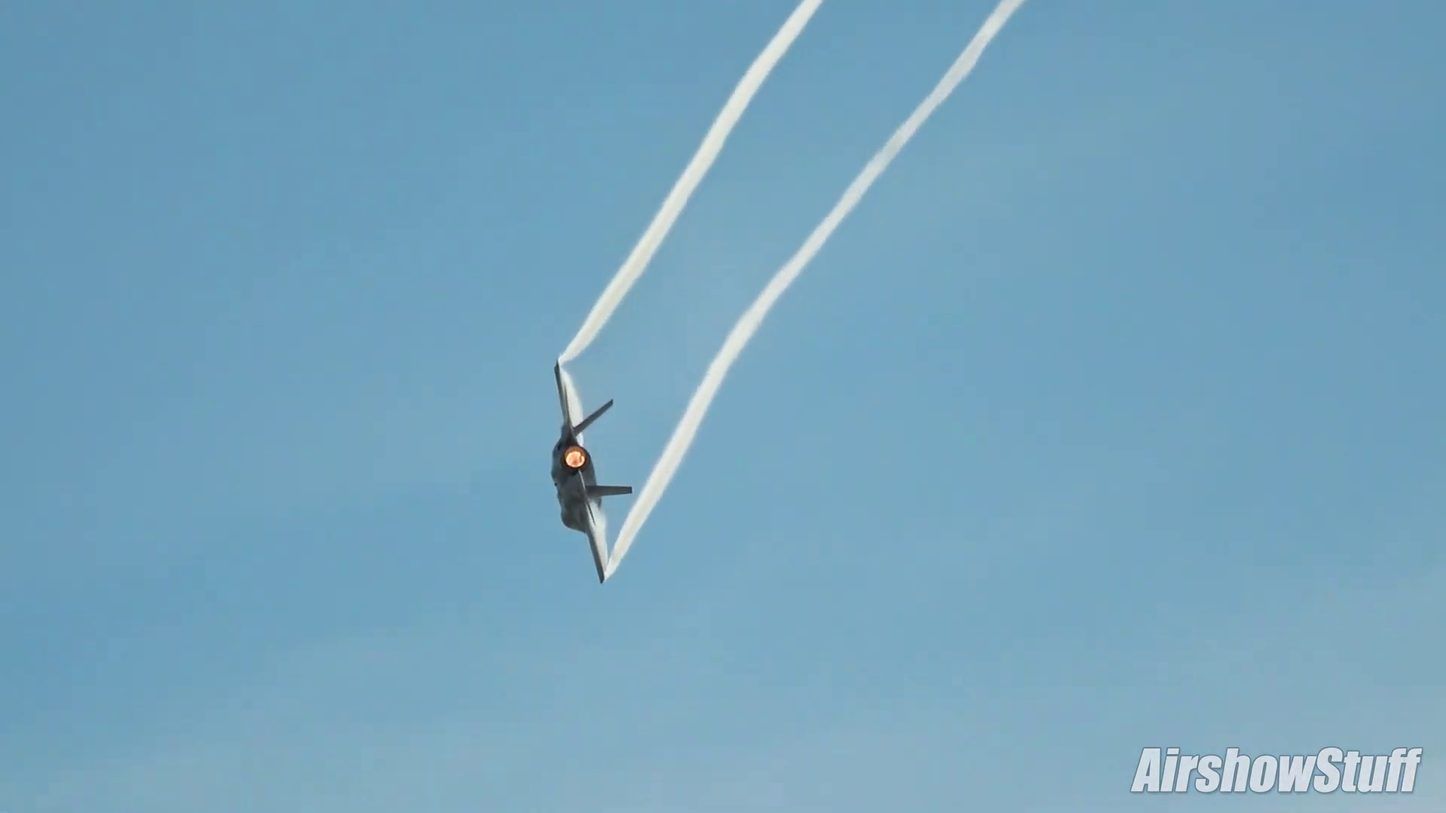F35: (537, 358, 640, 585)
